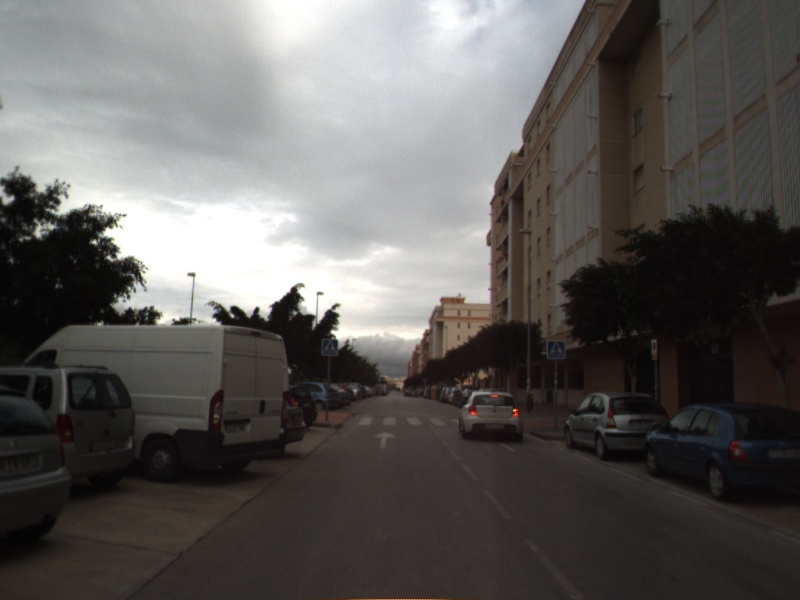STRAIGHT: (371, 429, 398, 450)
